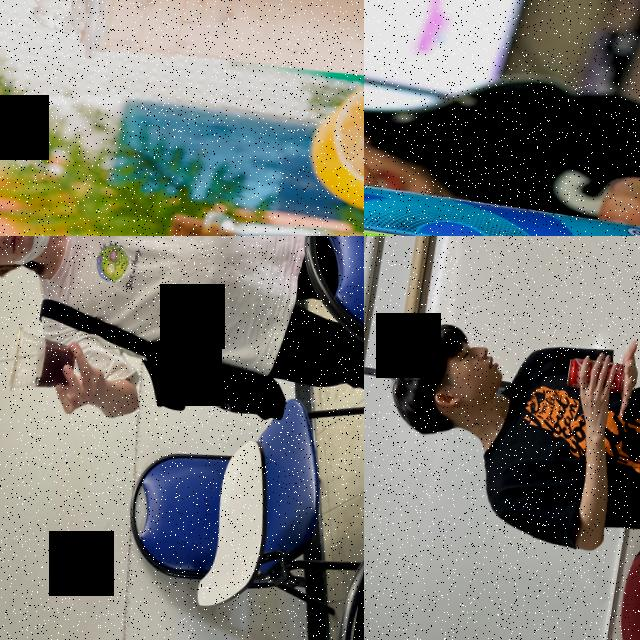can: (364, 155, 640, 236), (566, 354, 626, 394)
cup: (79, 0, 364, 127), (5, 324, 80, 400)
